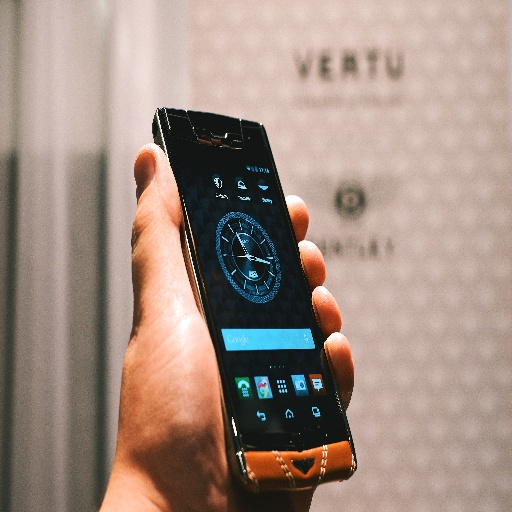hand: (114, 119, 369, 506)
